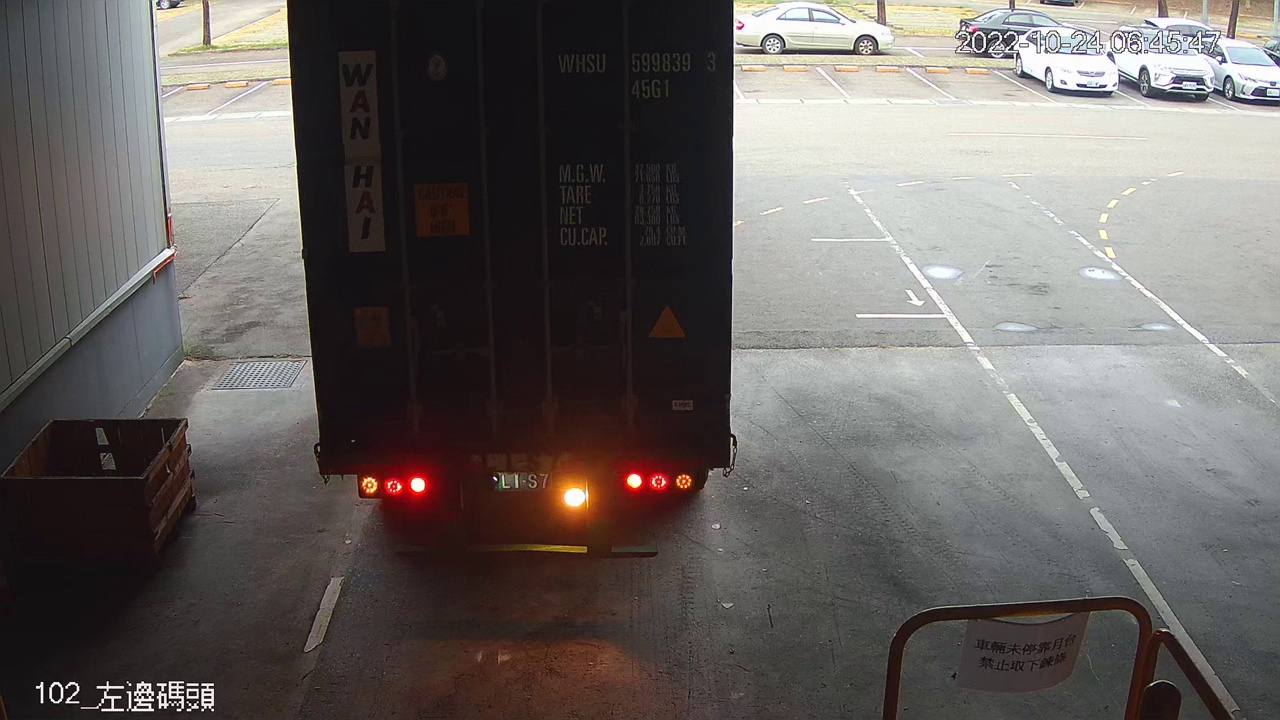container: (550, 44, 720, 104)
